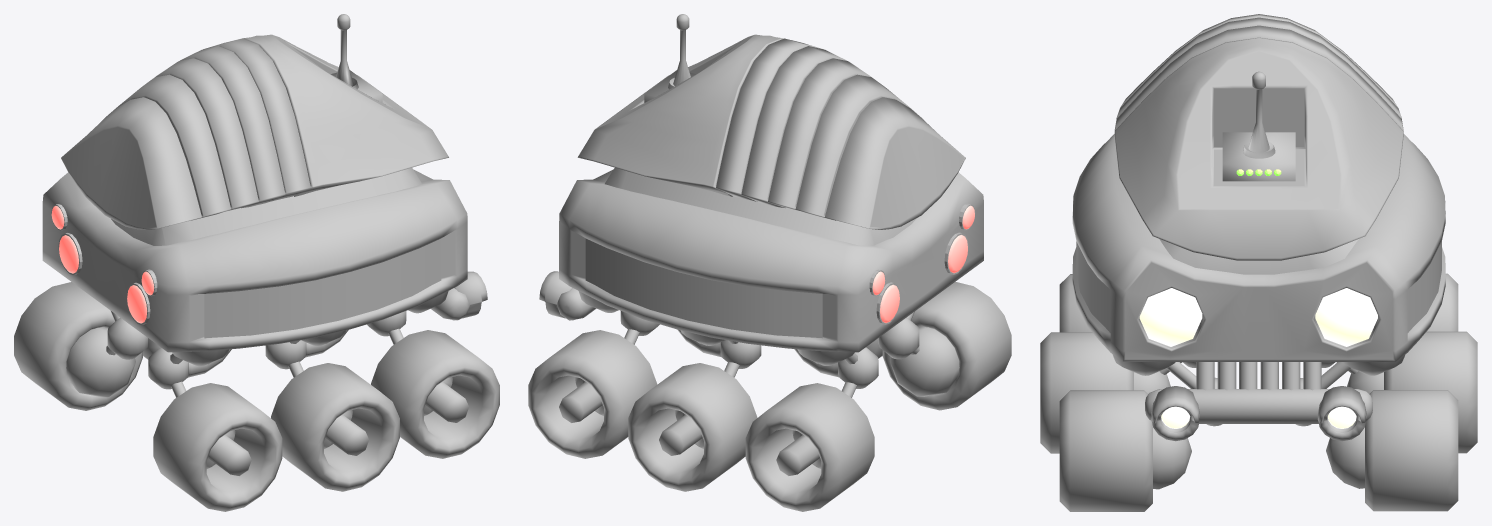
The picture shows the model from 3 angles, left to right: view 1: azimuth 30°, elevation 25°; view 2: azimuth 150°, elevation 25°; view 3: azimuth 270°, elevation 25°; orthographic projection. The views are drawn at different scales.
Visible parts, largest first — view 1: curiosity.LP (×8); view 2: curiosity.LP (×8); view 3: curiosity.LP (×8).
Boxes of the visible parts, x1,y1,x2,y2 form: curiosity.LP (×8): (14,14,499,511); curiosity.LP (×8): (528,14,1011,511); curiosity.LP (×8): (1040,14,1477,511).
Size of the model in its own units: 3.79 by 4.09 by 3.84.
